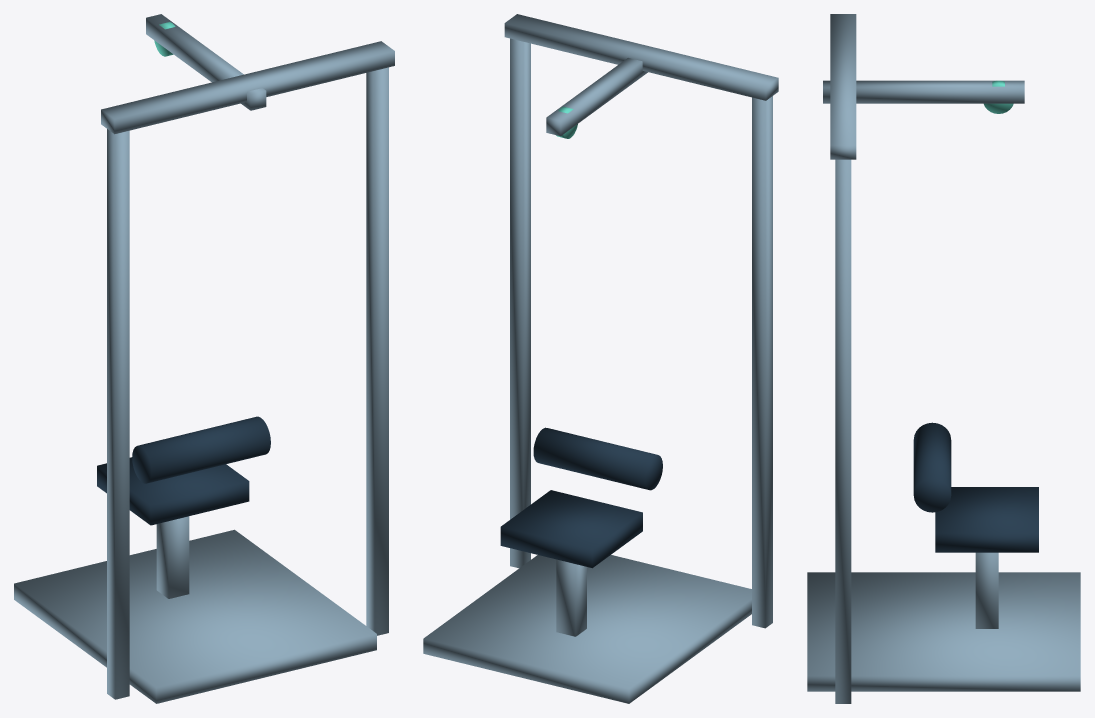
Rendered from lat_station.glb.
3 views of the same model, side by side, from view 1: azimuth 30°, elevation 25°; view 2: azimuth 150°, elevation 25°; view 3: azimuth 270°, elevation 25° (orthographic). The views are drawn at different scales.
Visible parts, largest first — view 1: lat_frame, thigh_pad, seat, lat_top_beam, seat_support; view 2: lat_frame, seat, thigh_pad, lat_top_beam, seat_support; view 3: lat_frame, seat, lat_top_beam, thigh_pad, seat_support.
Boxes of the visible parts, x1,y1,x2,y2 form: lat_frame: (14, 41, 394, 703); thigh_pad: (132, 416, 270, 483); seat: (97, 457, 249, 525); lat_top_beam: (146, 14, 266, 110); seat_support: (156, 516, 189, 598); lat_frame: (423, 14, 778, 703); seat: (500, 490, 642, 568); thigh_pad: (533, 427, 662, 490); lat_top_beam: (546, 58, 647, 136); seat_support: (556, 559, 586, 636); lat_frame: (807, 14, 1080, 703); seat: (935, 487, 1038, 552); lat_top_beam: (823, 80, 1024, 103); thigh_pad: (913, 422, 951, 512); seat_support: (975, 552, 998, 628).
Bounding box in the file's own units: 1.08 × 2.15 × 0.95.
